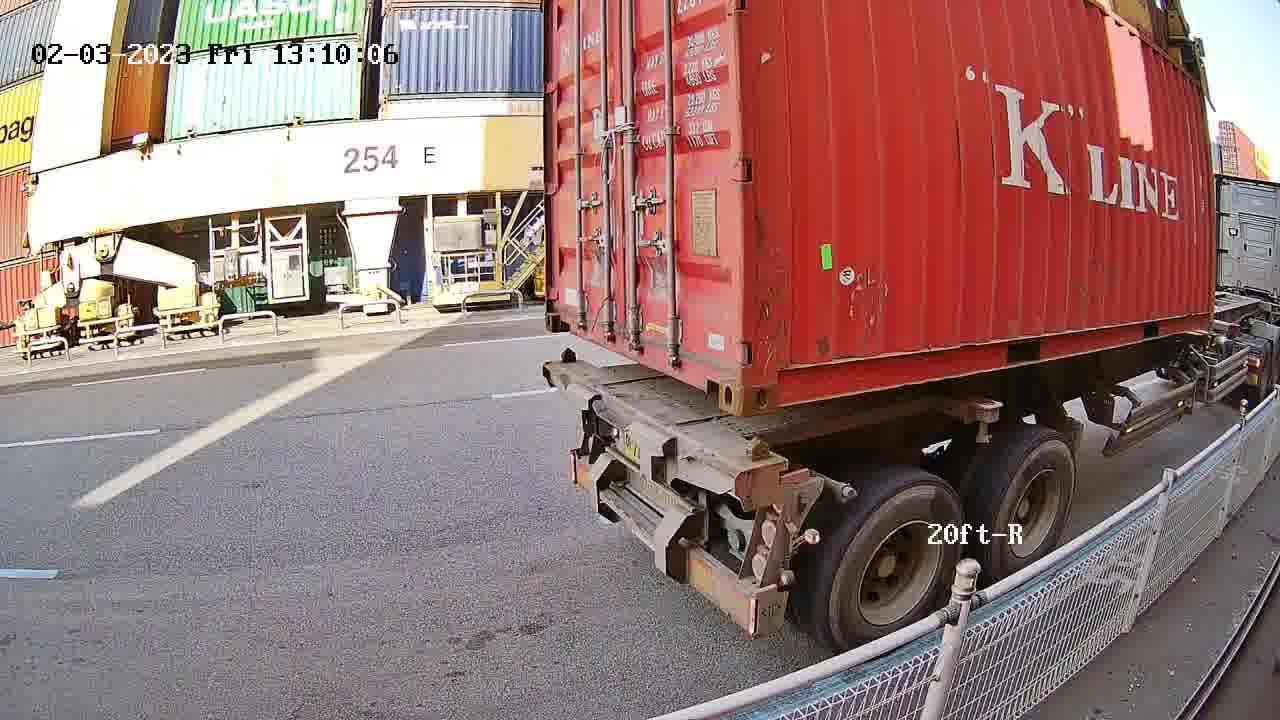Chassis: (545, 359, 788, 495)
Cone: (742, 436, 774, 507), (557, 348, 579, 365)
Hole_L: (741, 336, 811, 419), (544, 286, 580, 337)
Hole_R: (692, 332, 741, 419)
Tire: (818, 472, 965, 668), (990, 432, 1078, 582)
